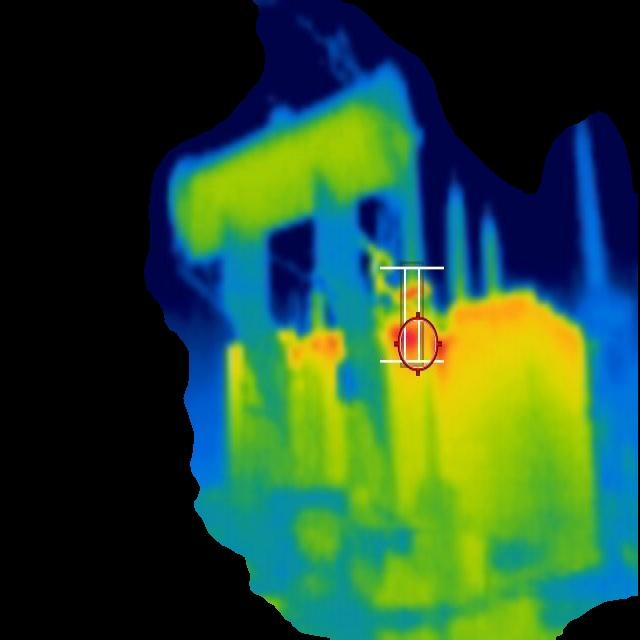Transformer Overload: (224, 274, 590, 515)
